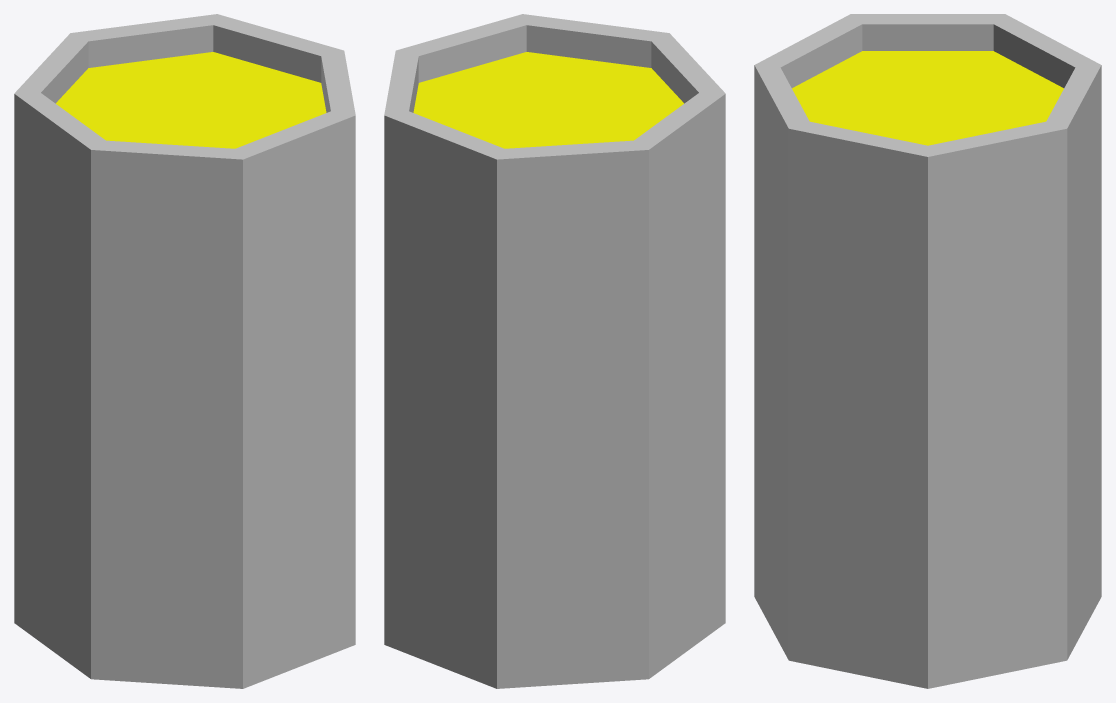
File: glas_5.fbx
3 views of the same model, side by side, from view 1: azimuth 30°, elevation 25°; view 2: azimuth 150°, elevation 25°; view 3: azimuth 270°, elevation 25° (orthographic).
Parts seen in each view (by area): view 1: cup, sirup; view 2: cup, sirup; view 3: cup, sirup.
Boxes of the visible parts, x1,y1,x2,y2 form: cup: (14,14,355,688); sirup: (56,52,326,148); cup: (384,14,725,688); sirup: (413,52,683,148); cup: (754,14,1101,688); sirup: (792,51,1063,145).
Bounding box in the file's own units: 93.99 × 163 × 96.4.
